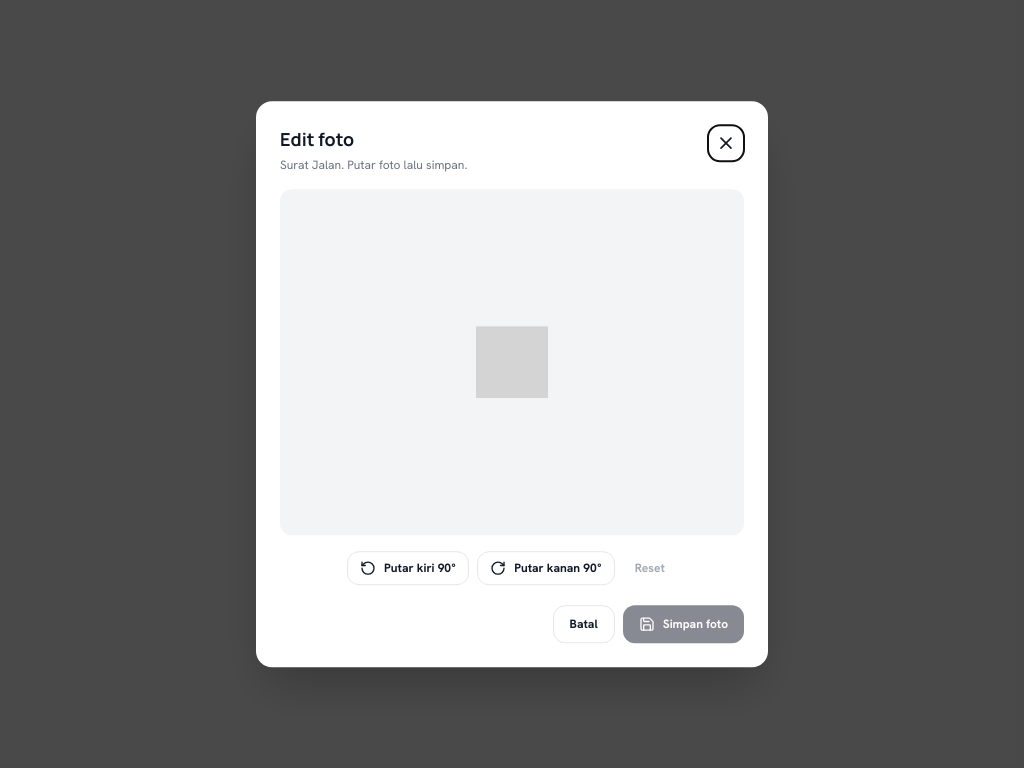
Scenario: photo rotation editor › disables saving when the photo cannot be processed
The width and height of the screenshot is (1024, 768).
Click the button "Putar kanan 90°" at (546, 568), box x1=477 y1=551 x2=615 y2=585
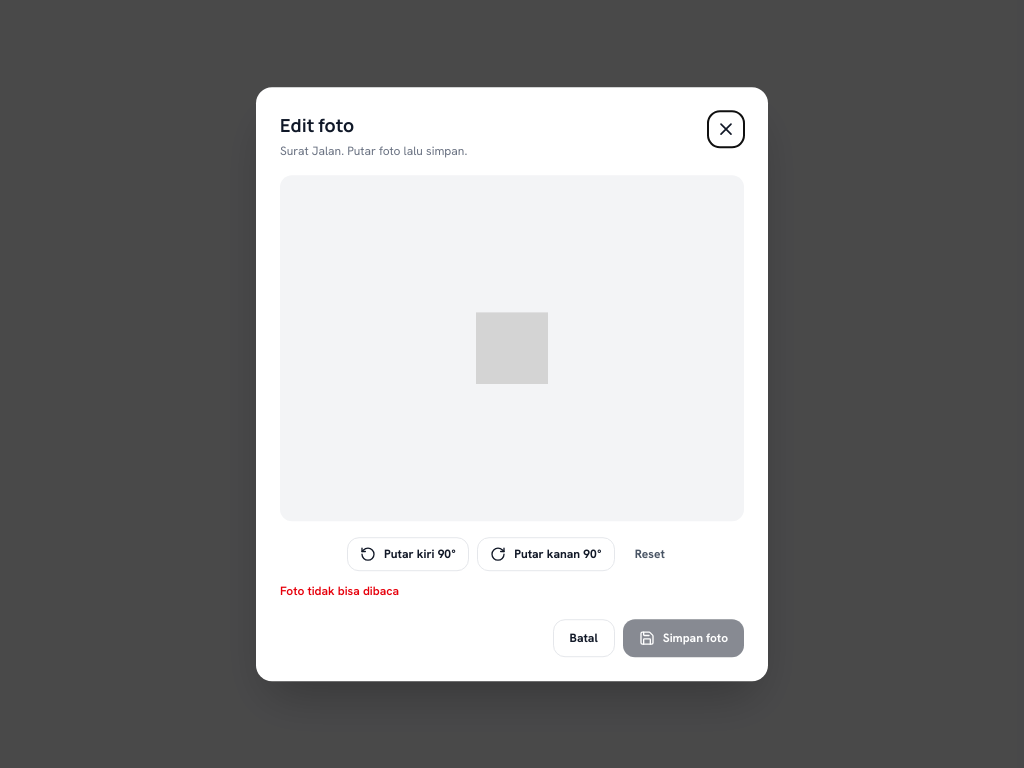
expect the button "Simpan foto" is disabled: met, box x1=623 y1=619 x2=744 y2=657
expect the message reads "Foto tidak bisa dibaca": met, box x1=280 y1=583 x2=399 y2=599
